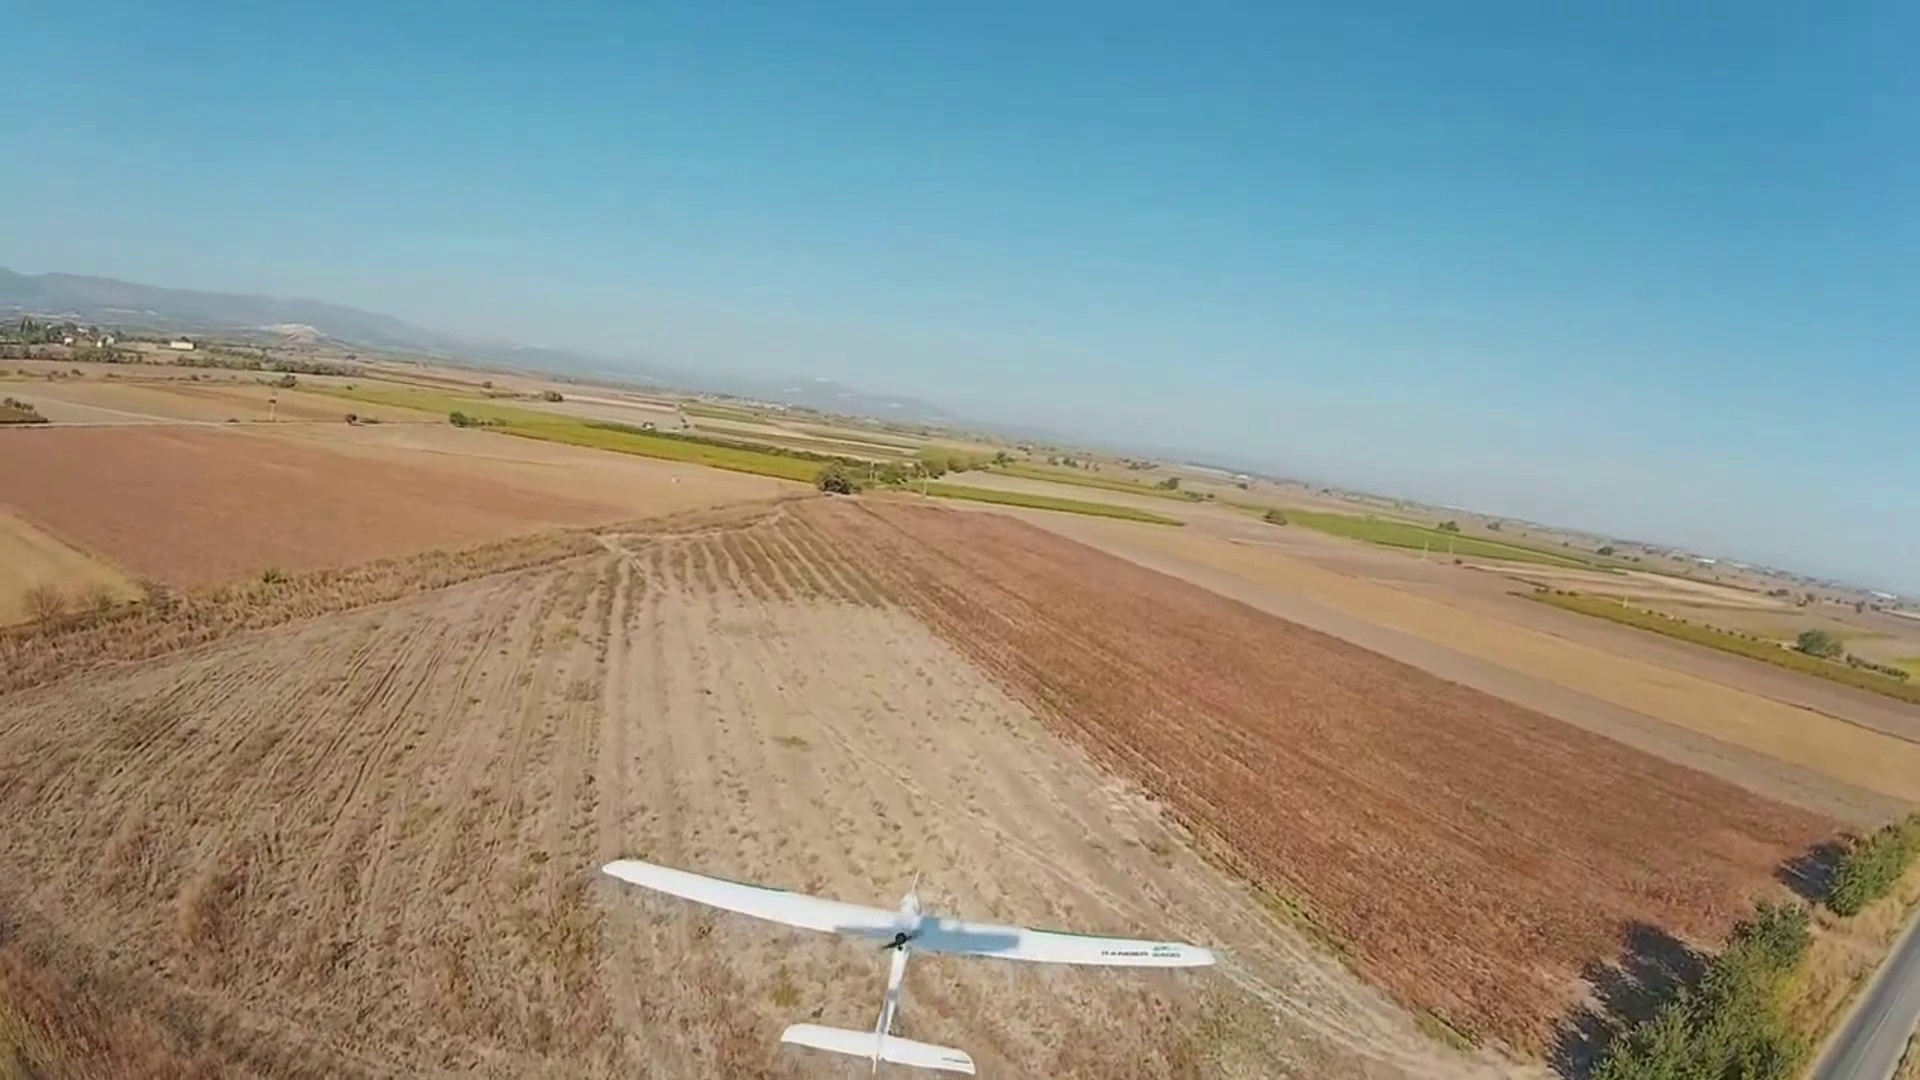airplane: (599, 858, 1218, 1069)
